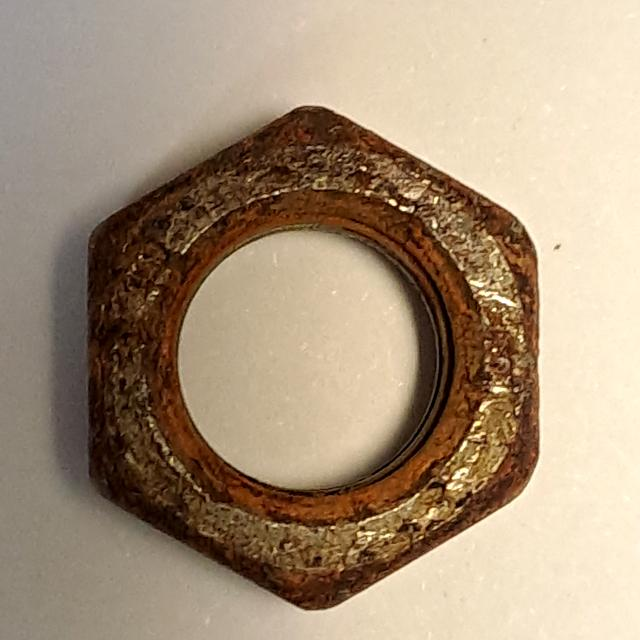Rust: (68, 85, 562, 623)
